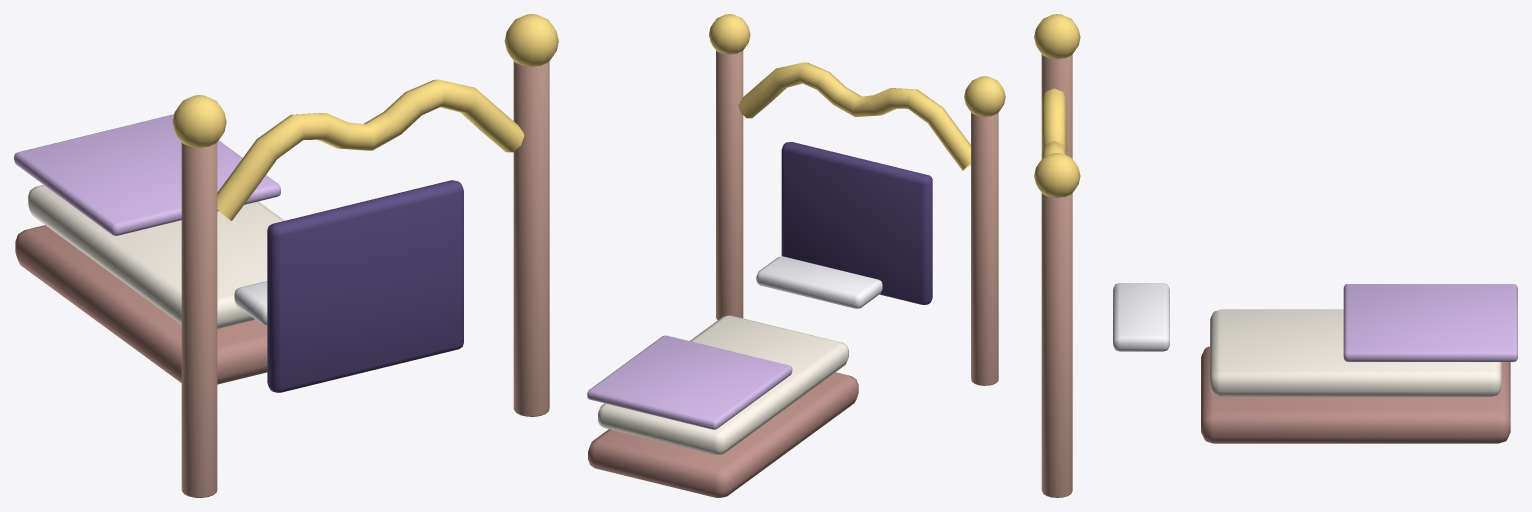
File: dream_bed_2.glb
The picture shows the model from 3 angles, left to right: view 1: azimuth 30°, elevation 25°; view 2: azimuth 150°, elevation 25°; view 3: azimuth 270°, elevation 25°; orthographic projection. The views are drawn at different scales.
Parts seen in each view (by area): view 1: HeadboardInk.003, Blanket.003, Mattress.003, HeadPost_-1.003, HeadPost_1.003, BedFrame.003, HeadboardCrown.003, PostPearl_-1.003, PostPearl_1.003, Pillow.003; view 2: HeadboardInk.003, BedFrame.003, Blanket.003, Mattress.003, HeadPost_-1.003, HeadPost_1.003, HeadboardCrown.003, Pillow.003, PostPearl_-1.003, PostPearl_1.003; view 3: Mattress.003, BedFrame.003, Blanket.003, HeadPost_1.003, Pillow.003, PostPearl_-1.003, PostPearl_1.003, HeadboardCrown.003, HeadPost_-1.003.
Part boxes in pixels (x1=…): HeadboardInk.003: x1=267, y1=180, x2=463, y2=392; Blanket.003: x1=14, y1=114, x2=280, y2=235; Mattress.003: x1=28, y1=185, x2=284, y2=328; HeadPost_-1.003: x1=181, y1=142, x2=217, y2=497; HeadPost_1.003: x1=513, y1=61, x2=549, y2=416; BedFrame.003: x1=15, y1=225, x2=267, y2=384; HeadboardCrown.003: x1=217, y1=79, x2=524, y2=220; PostPearl_-1.003: x1=172, y1=95, x2=226, y2=147; PostPearl_1.003: x1=504, y1=14, x2=558, y2=66; Pillow.003: x1=234, y1=281, x2=267, y2=325; HeadboardInk.003: x1=781, y1=142, x2=932, y2=304; BedFrame.003: x1=588, y1=372, x2=858, y2=497; Blanket.003: x1=587, y1=335, x2=792, y2=429; Mattress.003: x1=598, y1=315, x2=848, y2=454; HeadPost_-1.003: x1=971, y1=112, x2=998, y2=385; HeadPost_1.003: x1=716, y1=50, x2=743, y2=319; HeadboardCrown.003: x1=738, y1=62, x2=970, y2=170; Pillow.003: x1=756, y1=256, x2=882, y2=308; PostPearl_-1.003: x1=964, y1=76, x2=1005, y2=116; PostPearl_1.003: x1=709, y1=14, x2=750, y2=54; Mattress.003: x1=1210, y1=309, x2=1501, y2=396; BedFrame.003: x1=1201, y1=346, x2=1510, y2=443; Blanket.003: x1=1343, y1=284, x2=1517, y2=361; HeadPost_1.003: x1=1041, y1=193, x2=1072, y2=497; Pillow.003: x1=1113, y1=283, x2=1169, y2=351; PostPearl_-1.003: x1=1034, y1=14, x2=1080, y2=59; PostPearl_1.003: x1=1034, y1=153, x2=1080, y2=197; HeadboardCrown.003: x1=1041, y1=88, x2=1066, y2=158; HeadPost_-1.003: x1=1041, y1=54, x2=1072, y2=158.
Bounding box in the file's own units: 7.26 × 7.2 × 9.37.
